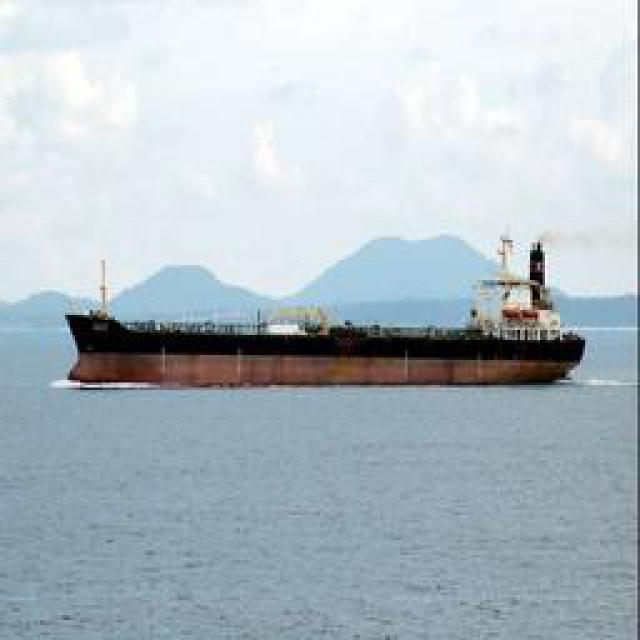Ship: (72, 276, 585, 389)
